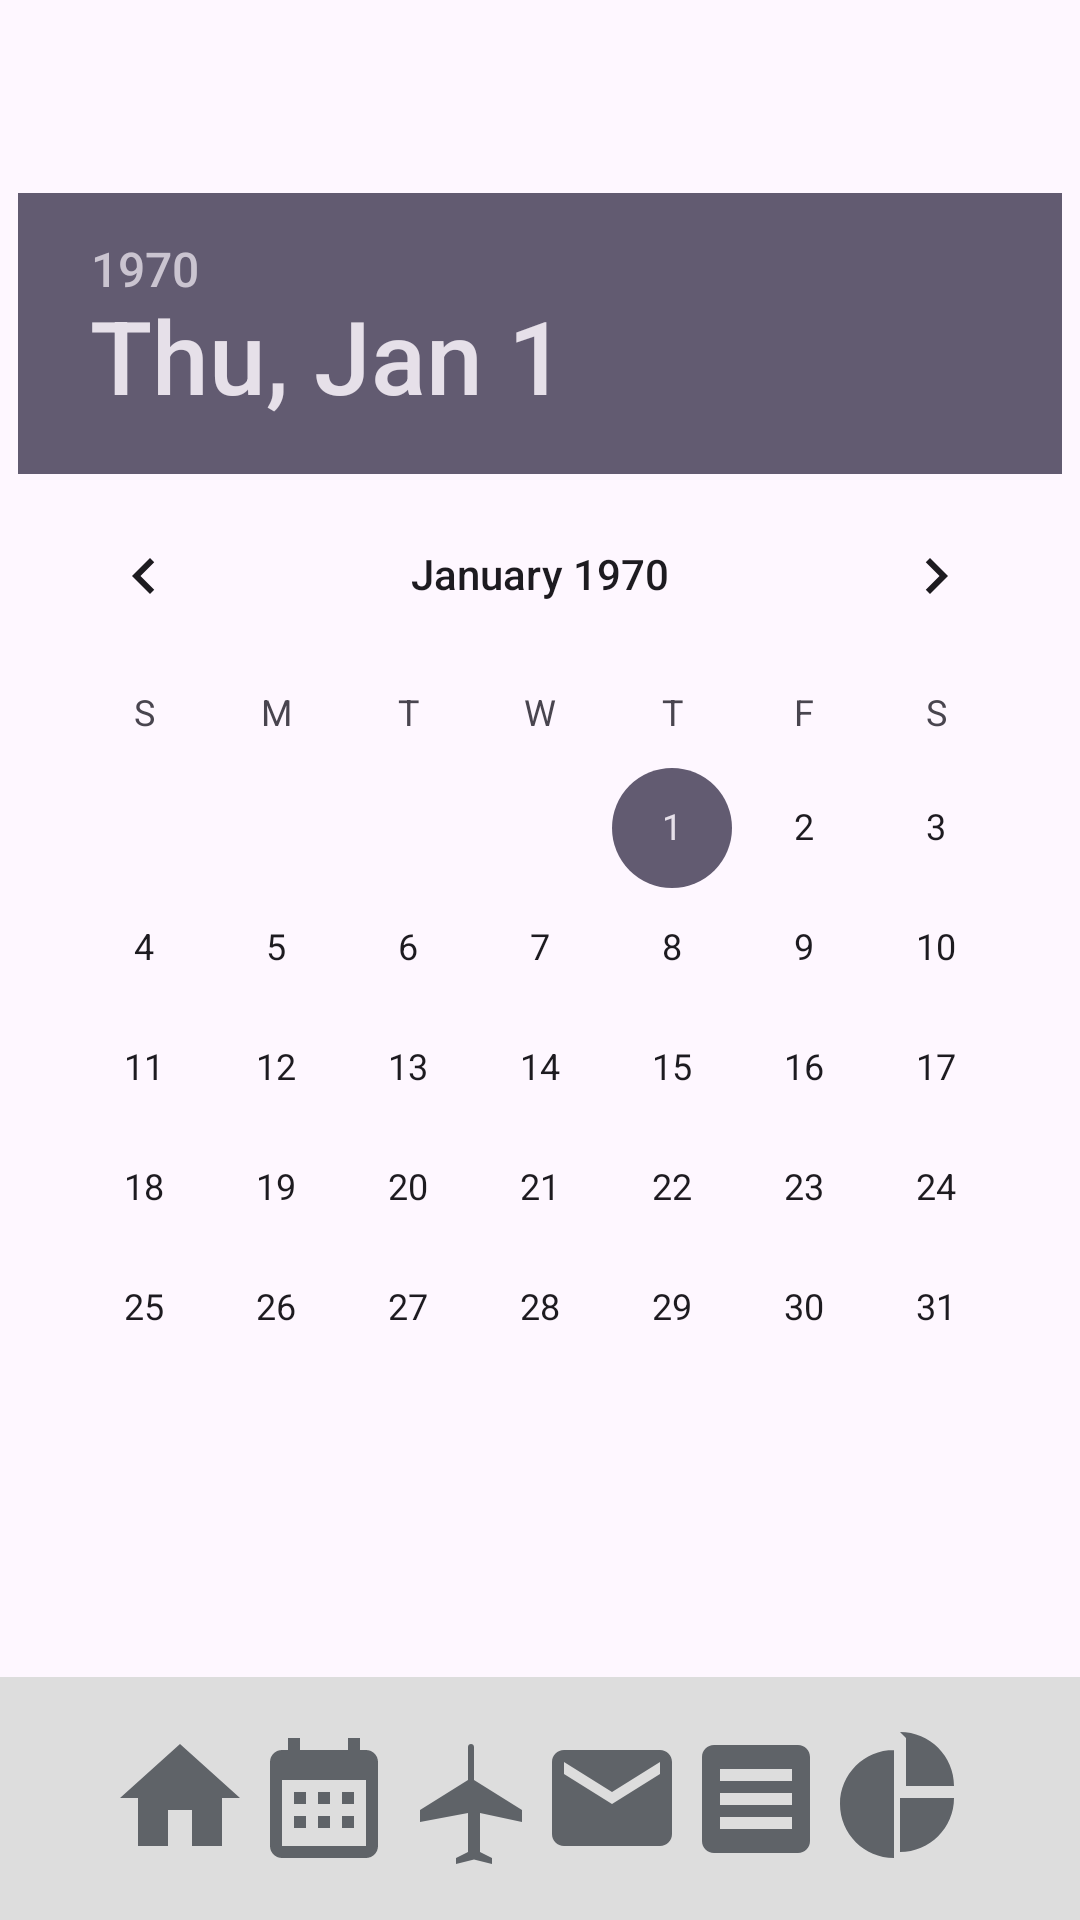

Named icons in this screenshot (1080×1920) and their bounding boxes, detection(x1, y1, x2, y2):
Absences: detection(420, 1744, 522, 1864)
Home: detection(120, 1744, 240, 1846)
Messages: detection(552, 1750, 672, 1846)
Reports: detection(702, 1745, 810, 1853)
Statistics: detection(840, 1732, 954, 1858)
Work Hours: detection(270, 1738, 378, 1858)
